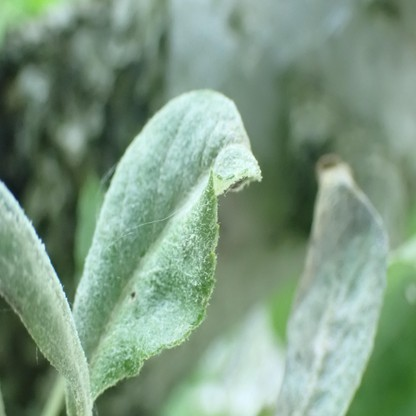powder: (67, 89, 263, 416), (279, 167, 389, 416), (1, 179, 91, 415)
